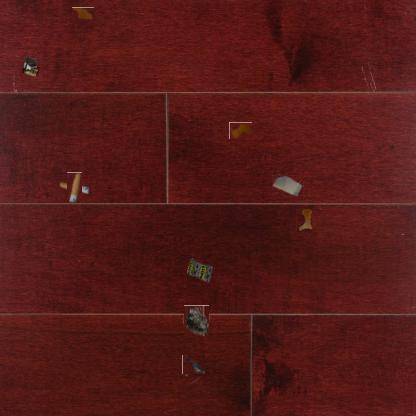dirty: (182, 307, 211, 335), (272, 174, 304, 196), (186, 258, 214, 282), (63, 176, 86, 200), (20, 55, 42, 79), (183, 354, 204, 375), (229, 122, 252, 139)
liquid: (296, 208, 312, 232), (72, 7, 94, 20)
